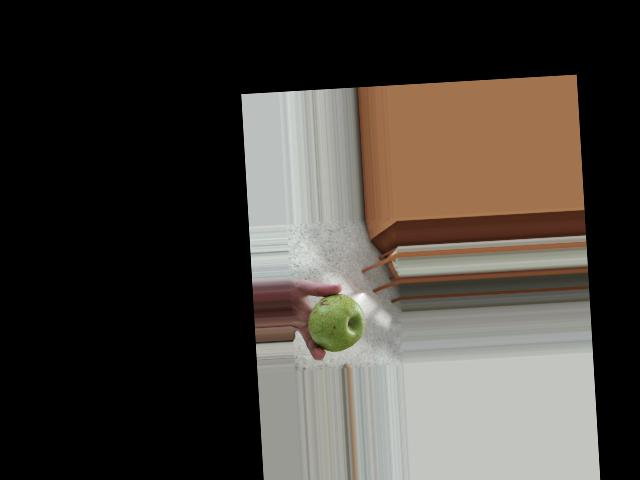apple: (304, 291, 367, 355)
